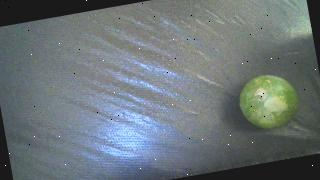DESECHO: (236, 70, 303, 133)
